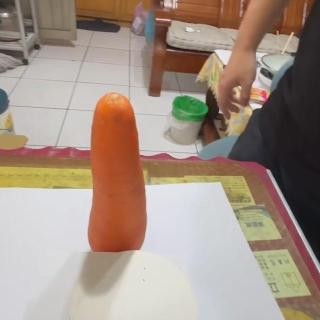carrot: (86, 90, 150, 254)
